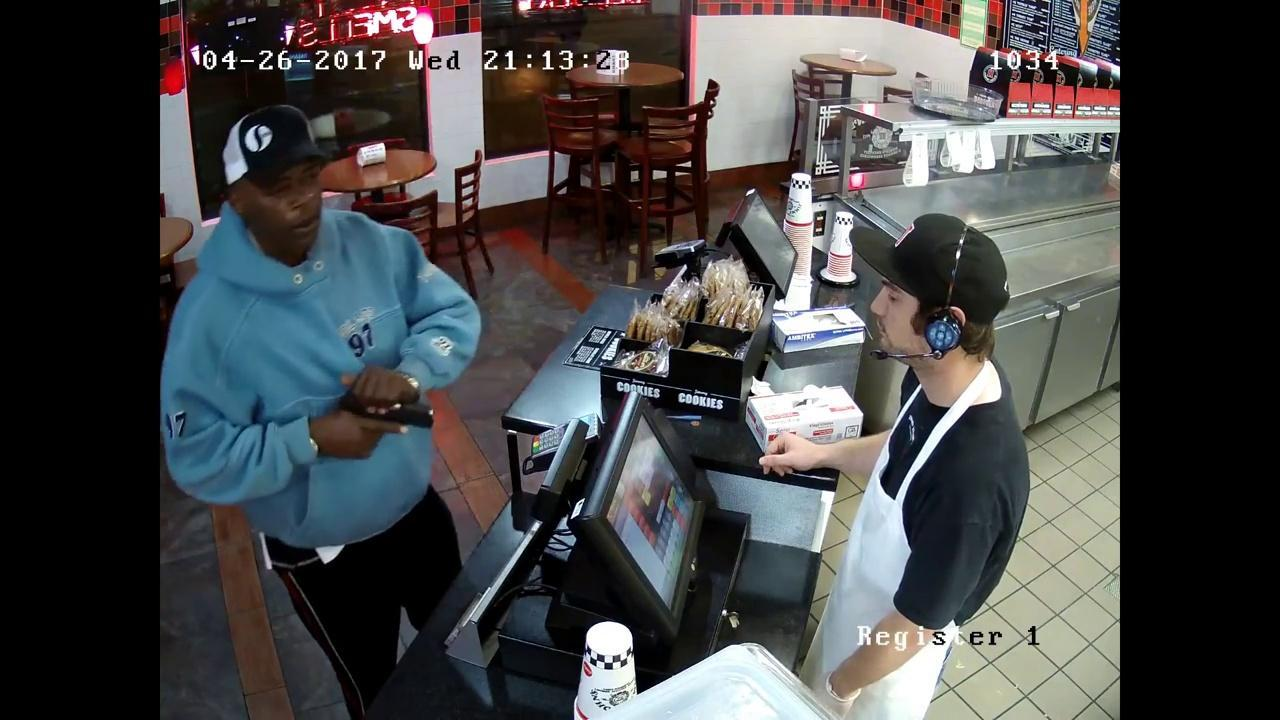Guns: (306, 353, 461, 450)
